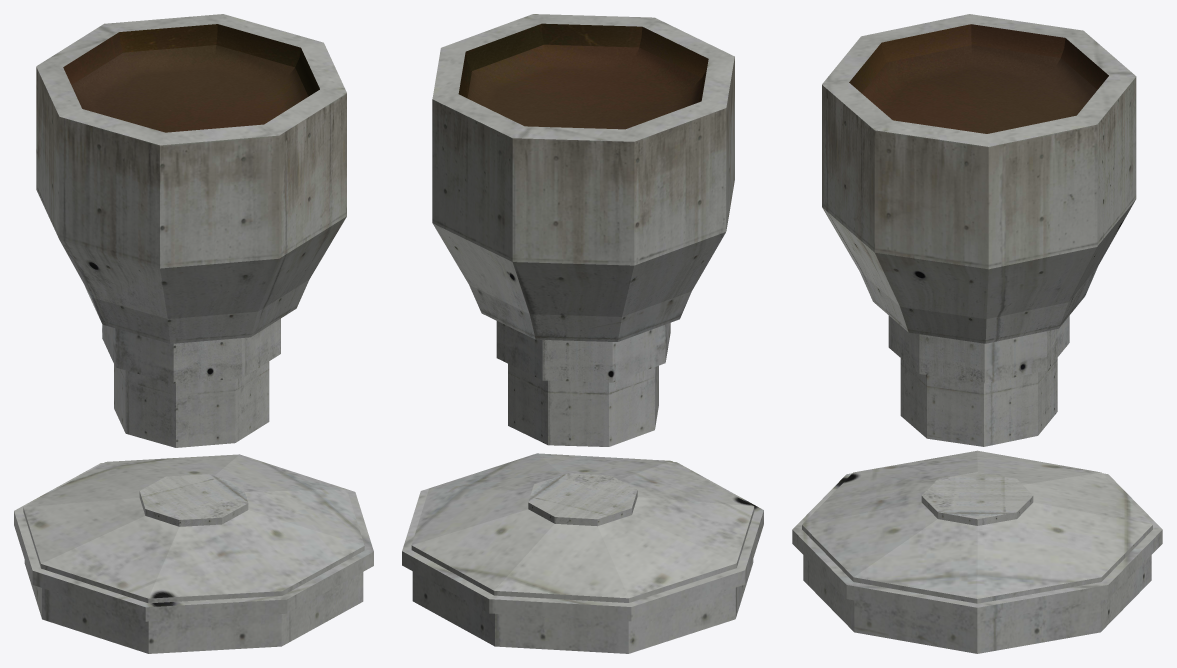
File: penseive.glb
3 renders of one model, left to right at view 1: azimuth 30°, elevation 25°; view 2: azimuth 150°, elevation 25°; view 3: azimuth 270°, elevation 25°, orthographic.
Visible parts, largest first — view 1: The_Penesive.001, The_Penesive; view 2: The_Penesive.001, The_Penesive; view 3: The_Penesive.001, The_Penesive.
Boxes of the visible parts, x1=… form: The_Penesive.001: x1=36, y1=14, x2=346, y2=447; The_Penesive: x1=14, y1=454, x2=373, y2=653; The_Penesive.001: x1=432, y1=14, x2=734, y2=446; The_Penesive: x1=402, y1=453, x2=763, y2=653; The_Penesive.001: x1=822, y1=14, x2=1136, y2=446; The_Penesive: x1=792, y1=450, x2=1162, y2=653.
Size of the model in its own units: 0.4206 by 0.6274 by 0.4206.
Materials: 2 (2 with a texture image).
